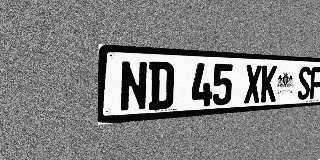4: (191, 63, 213, 107)
5: (213, 64, 233, 106)
D: (148, 61, 174, 110)
F: (310, 67, 320, 99)
K: (261, 65, 277, 103)
N: (119, 60, 148, 112)
S: (297, 66, 311, 100)
X: (244, 65, 262, 104)
